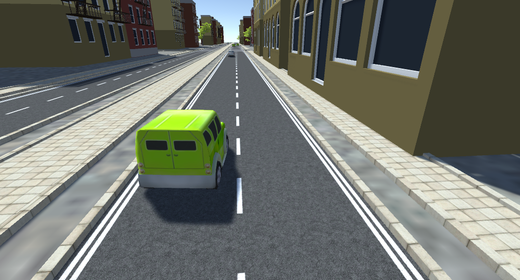centerstrip: (3, 58, 175, 116), (235, 53, 245, 280)
sidestripe: (253, 62, 428, 280), (61, 158, 144, 280), (185, 65, 220, 109)
